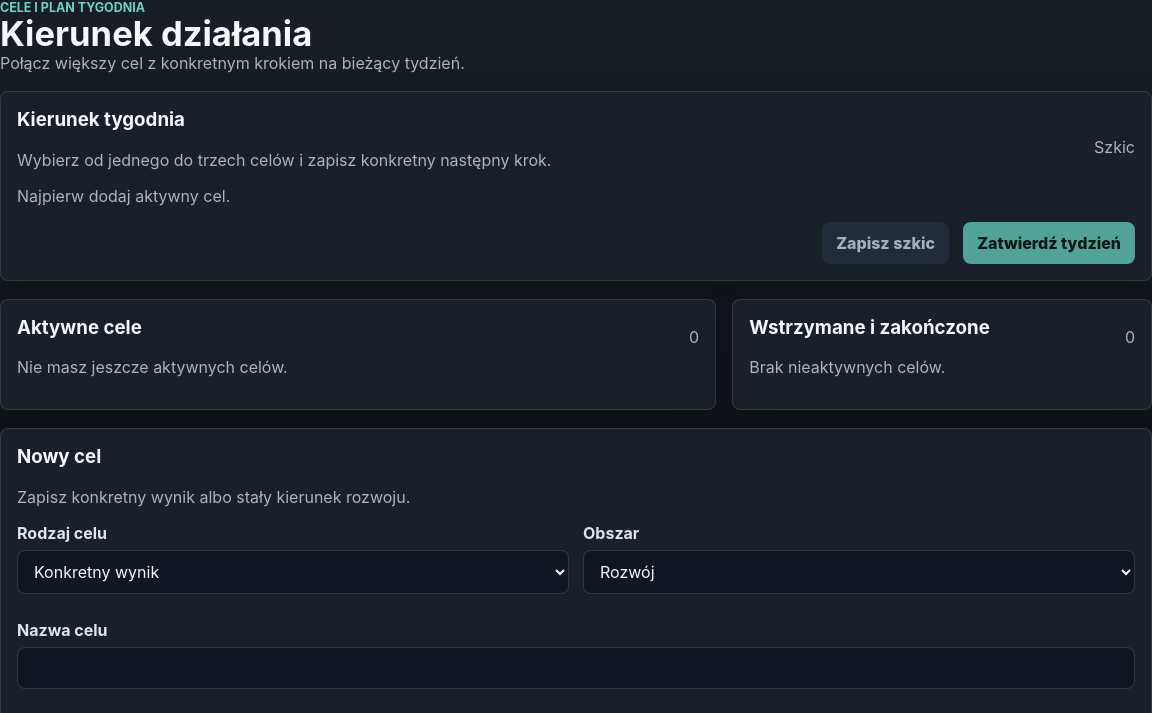
Scenario: GoalsView › shows validation when an outcome goal has no target date
Type "Portfolio" into the field labelled "Nazwa celu" at x=576, y=668, box top-left (17, 647), bottom-right (1135, 689)
(page scrolled)
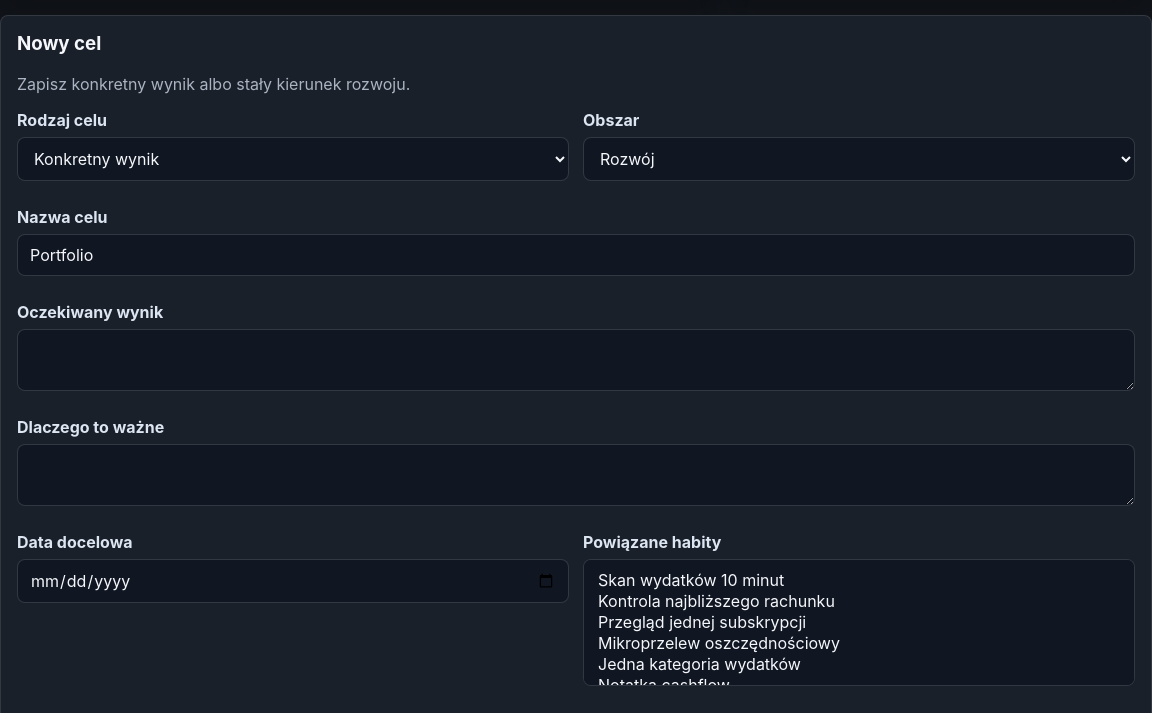
Type "Trzy projekty online" into the text box labelled "Oczekiwany wynik" at x=576, y=360, box top-left (17, 329), bottom-right (1135, 391)
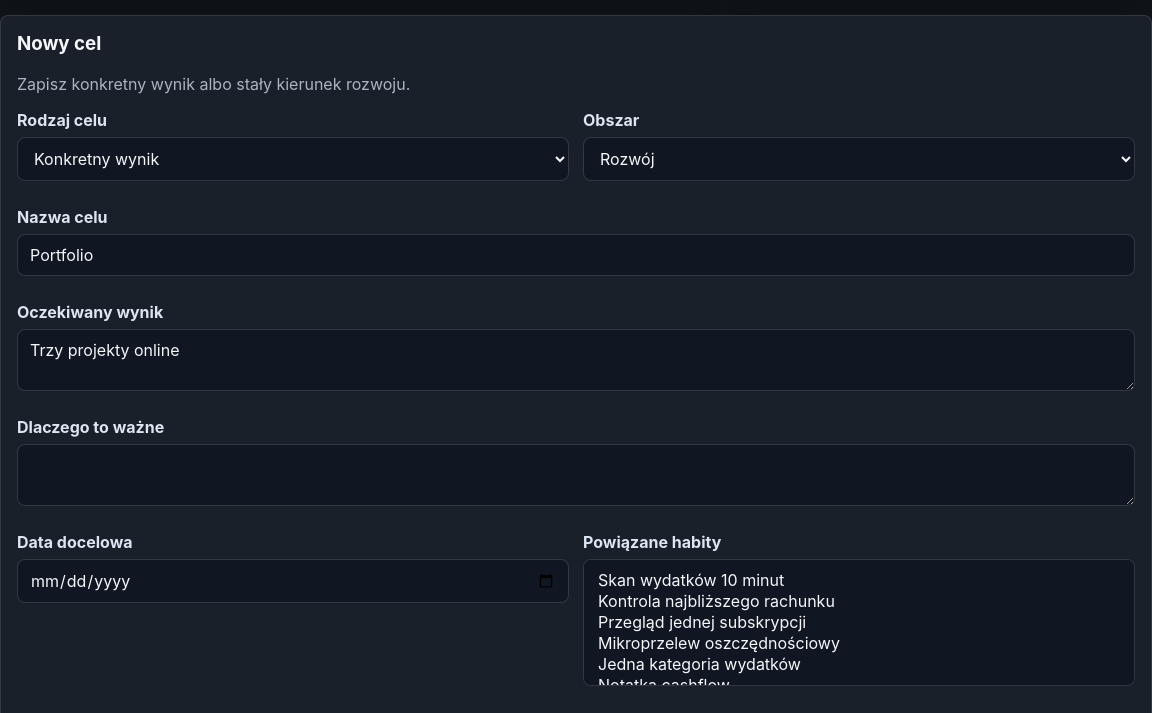
Type "Zmiana pracy" into the text box labelled "Dlaczego to ważne" at x=576, y=475, box top-left (17, 444), bottom-right (1135, 506)
(page scrolled)
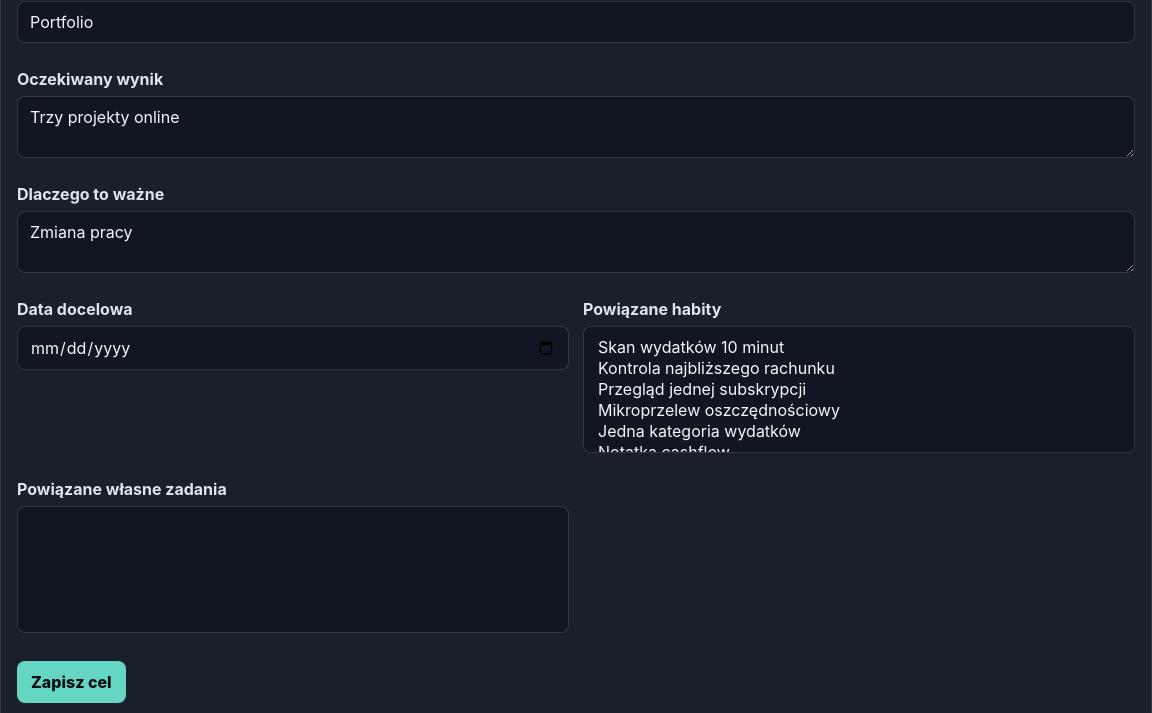
Click the button "Zapisz cel" at x=71, y=682, box top-left (17, 661), bottom-right (126, 703)
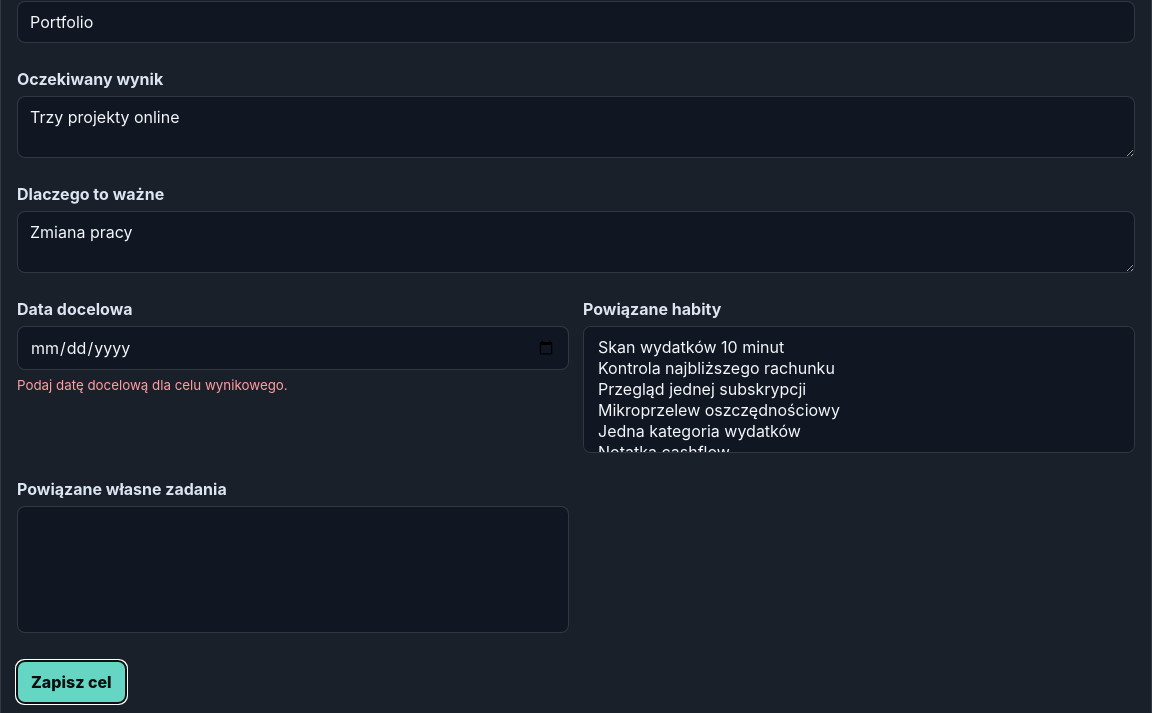
Expected: the text "Podaj datę docelową dla celu wynikowego." is shown, top-left (17, 377), bottom-right (288, 393)
